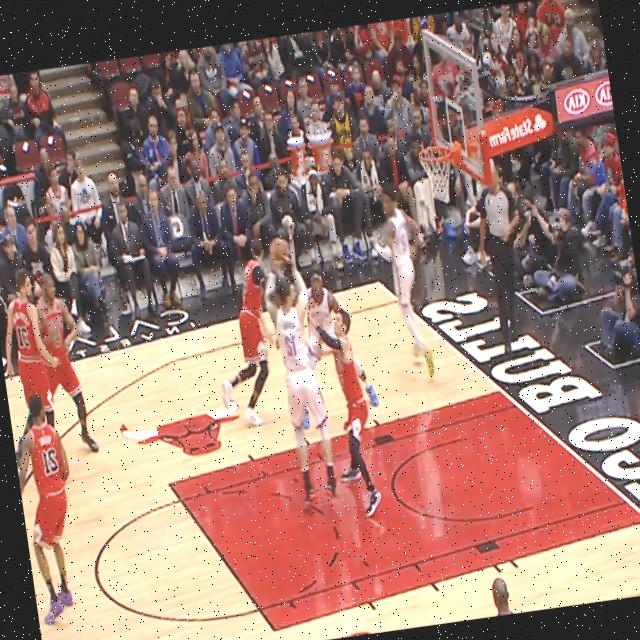no foul: (254, 220, 398, 523), (0, 271, 91, 506)
